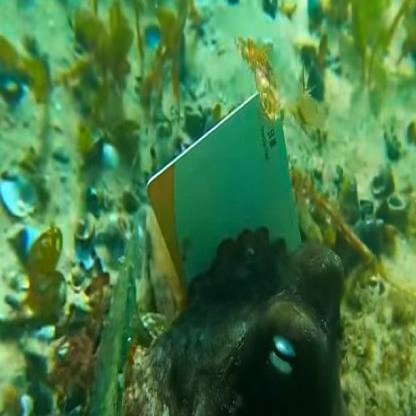misc: (129, 90, 311, 298)
